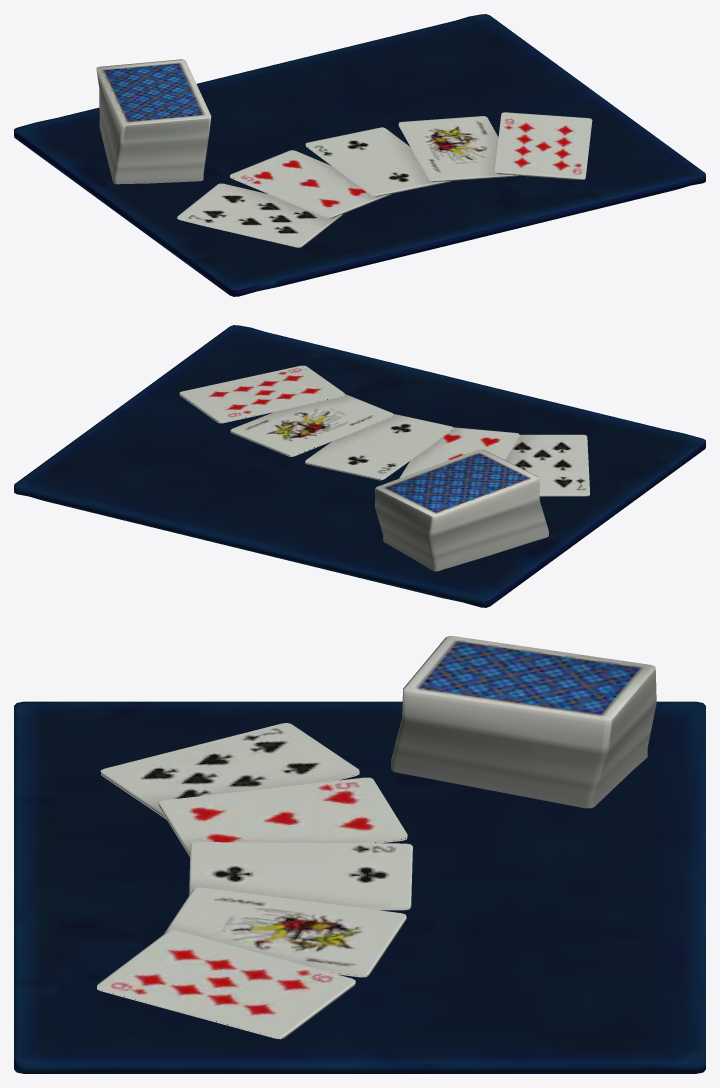
3 renders of one model, top to bottom at view 1: azimuth 30°, elevation 25°; view 2: azimuth 150°, elevation 25°; view 3: azimuth 270°, elevation 25°, orthographic. The views are drawn at different scales.
Size of the model in its own units: 8.11 by 1.04 by 6.55.
1 material, 1 textured.
